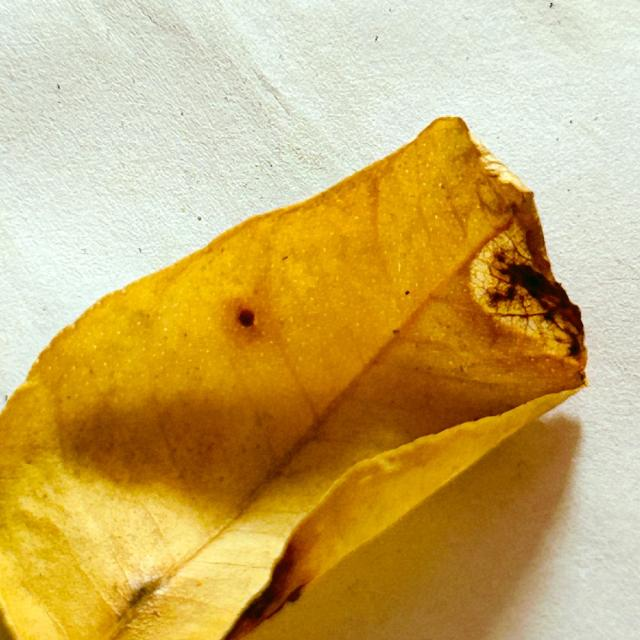DryLeaf_Lemon: (0, 117, 587, 639)
